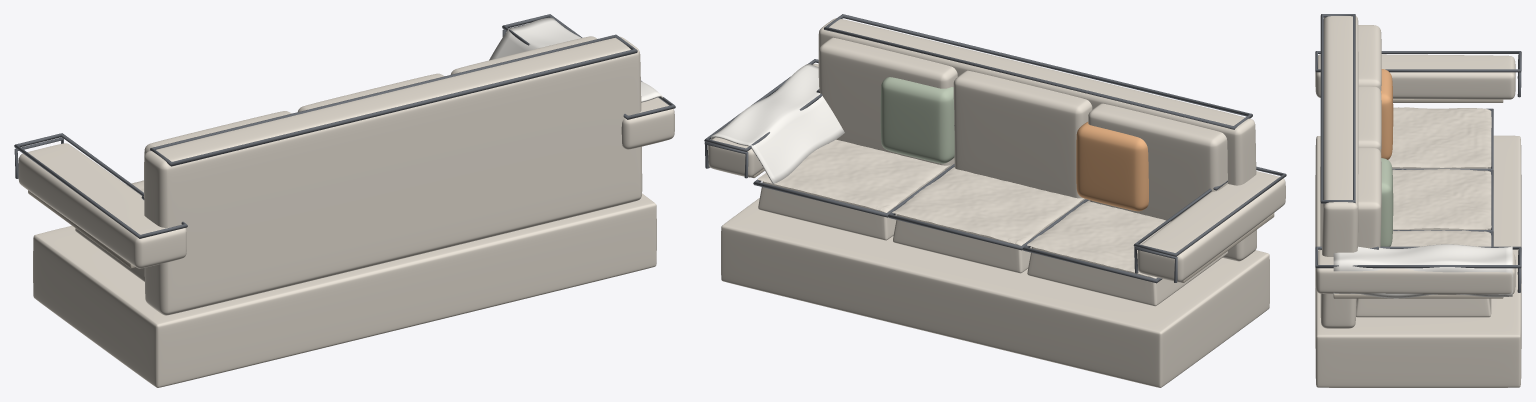
The model's file is sofa.glb.
3 views of the same model, side by side, from view 1: azimuth 30°, elevation 25°; view 2: azimuth 150°, elevation 25°; view 3: azimuth 270°, elevation 25° (orthographic). The views are drawn at different scales.
Parts seen in each view (by area): view 1: backrest, base, arm_L, back_pipe_top, throw, arm_R, arm_pipe_L, backc_0, backc_1, backc_2, arm_pipe_R; view 2: base, backc_1, seat_1, seat_2, backrest, seat_0, backc_0, backc_2, arm_L, throw, accent_sage, accent_terracotta (+7 smaller); view 3: base, backrest, seat_0, seat_1, arm_L, arm_R, throw, seat_2, backc_2, backc_1, backc_0, back_pipe_top (+8 smaller).
Part boxes in pixels (box(x1,y1,x2,y2)): backrest: box(144, 36, 642, 315); base: box(33, 193, 656, 387); arm_L: box(18, 143, 186, 268); back_pipe_top: box(150, 34, 637, 166); throw: box(489, 17, 662, 102); arm_R: box(621, 97, 674, 149); arm_pipe_L: box(14, 133, 187, 238); backc_0: box(144, 111, 291, 155); backc_1: box(298, 73, 444, 111); backc_2: box(450, 36, 596, 74); arm_pipe_R: box(502, 14, 675, 119); base: box(721, 198, 1269, 387); backc_1: box(953, 70, 1092, 202); seat_1: box(892, 167, 1083, 273); seat_2: box(757, 139, 949, 240); backrest: box(818, 18, 1256, 261); seat_0: box(1027, 200, 1227, 306); backc_0: box(1088, 103, 1227, 221); backc_2: box(819, 37, 957, 169); arm_L: box(1137, 171, 1285, 282); throw: box(708, 64, 844, 184); accent_sage: box(880, 77, 954, 163); accent_terracotta: box(1076, 122, 1148, 211); base: box(1315, 135, 1521, 387); backrest: box(1320, 16, 1358, 328); seat_0: box(1388, 107, 1491, 168); seat_1: box(1392, 169, 1491, 229); arm_L: box(1315, 54, 1515, 99); arm_R: box(1315, 250, 1515, 295); throw: box(1333, 244, 1512, 298); seat_2: box(1356, 230, 1491, 317); backc_2: box(1358, 147, 1381, 248); backc_1: box(1358, 86, 1381, 154); backc_0: box(1358, 25, 1381, 90); back_pipe_top: box(1320, 14, 1355, 203).
Size of the model in its own units: 2.24 by 0.8745 by 0.8996.
